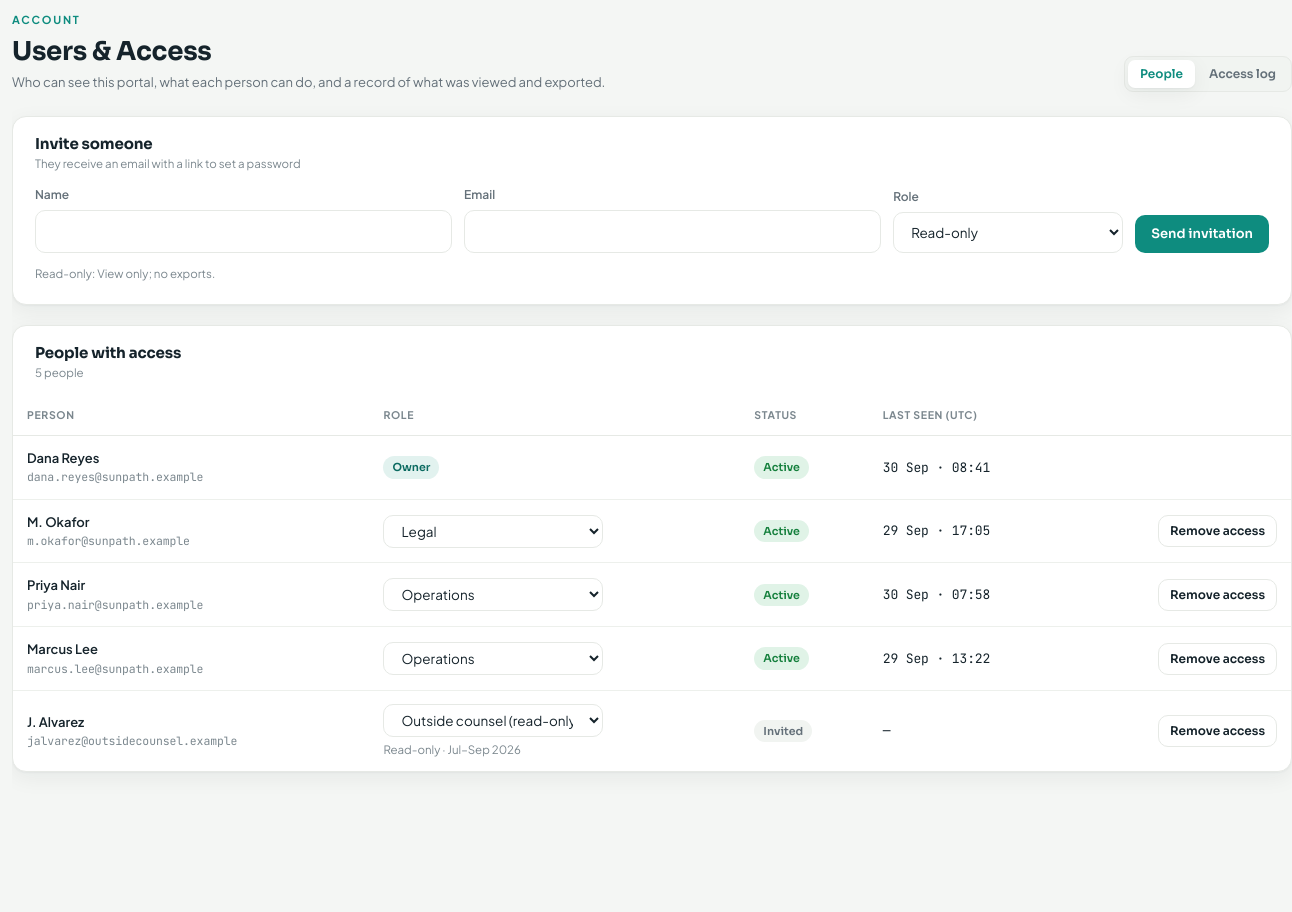
Test: interactions › invites a user and removes access
This screenshot has width=1292, height=912.
Step 1. Type "New Person" into the field labelled "Name" → (244, 232), box x1=35 y1=210 x2=452 y2=253
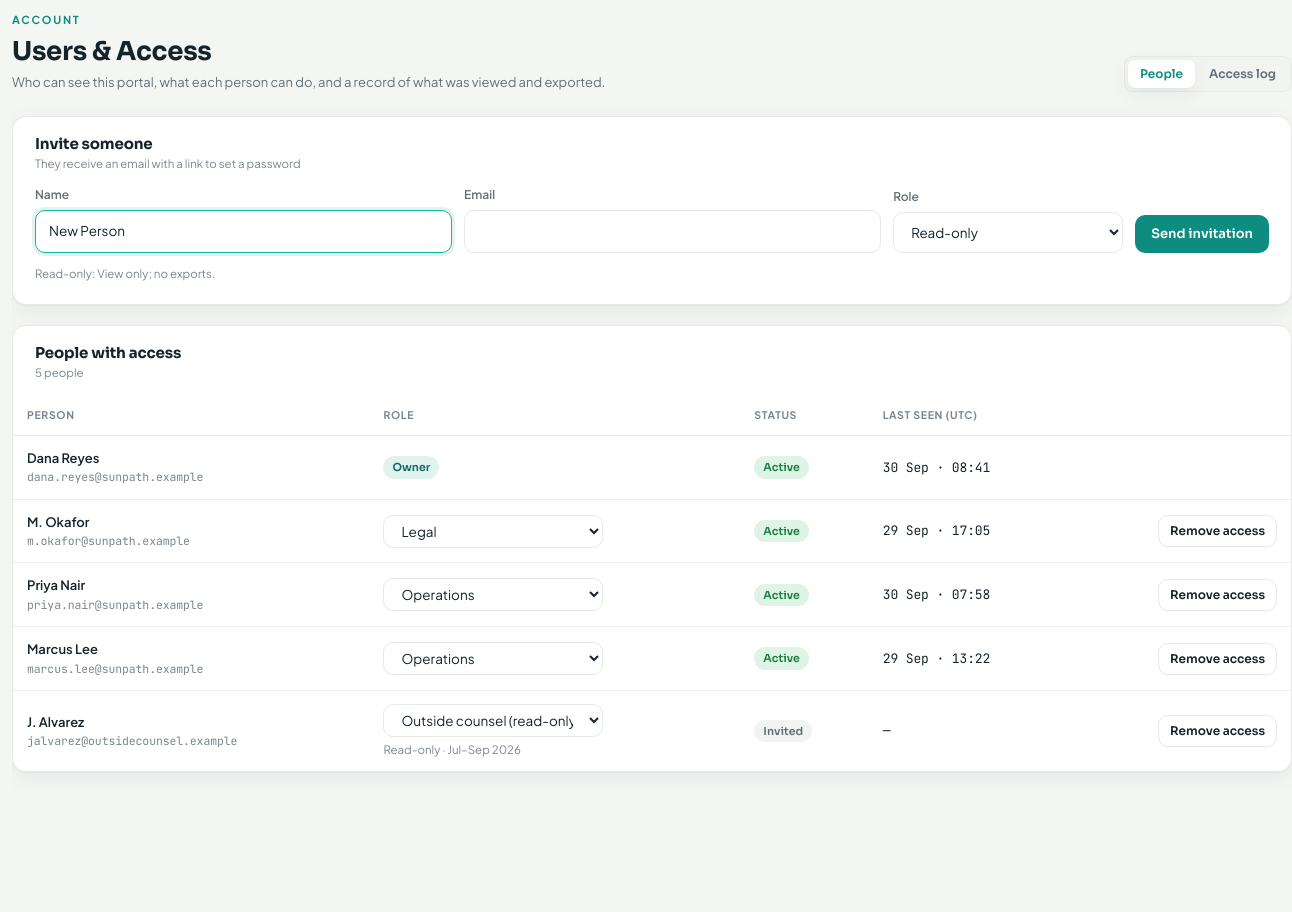
Step 2. Type "new.person@sunpath.example" into the field labelled "Email" → (673, 232), box x1=464 y1=210 x2=881 y2=253
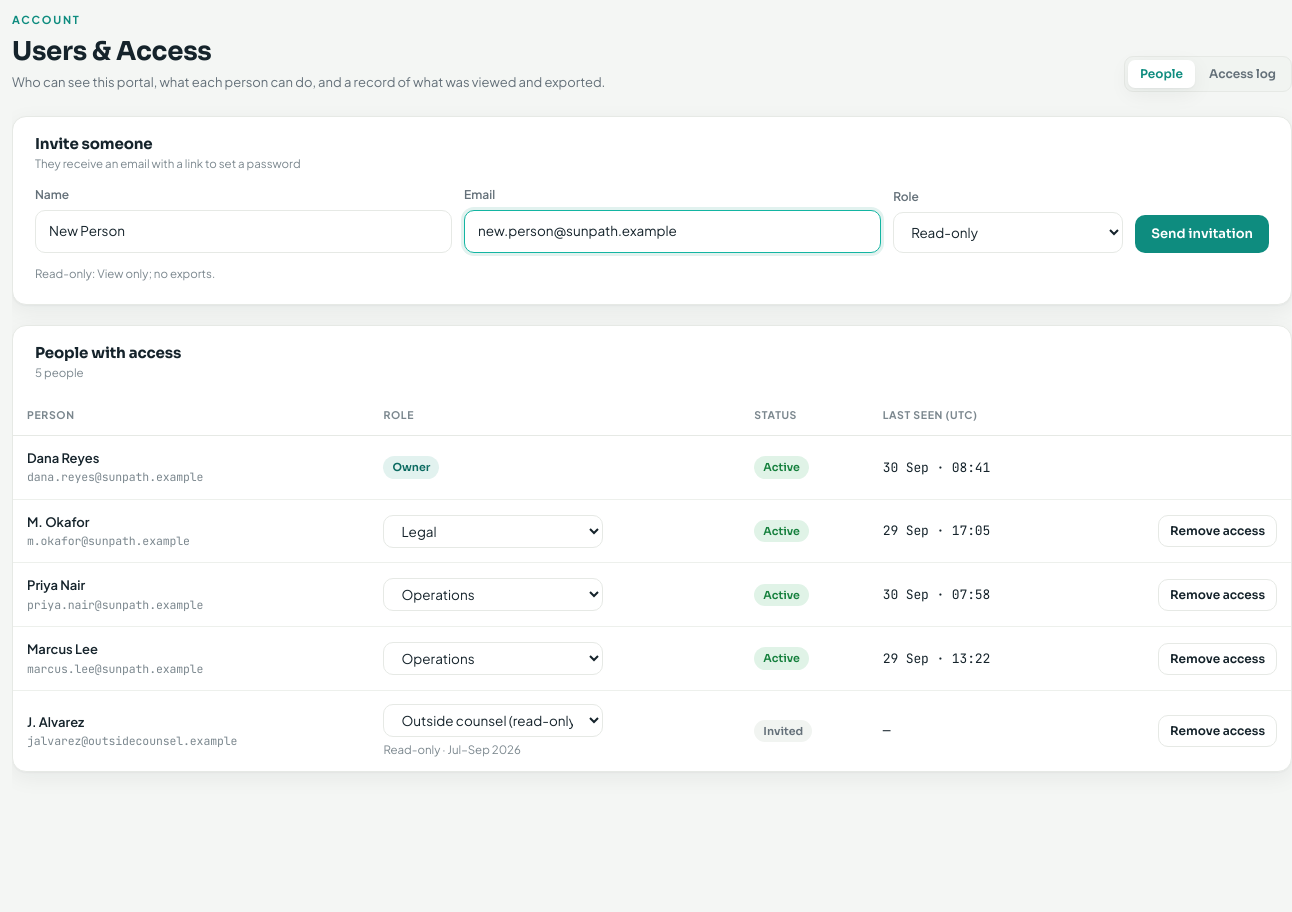
Step 3. Click the button "Send invitation" → click(1202, 234), box x1=1135 y1=215 x2=1269 y2=253
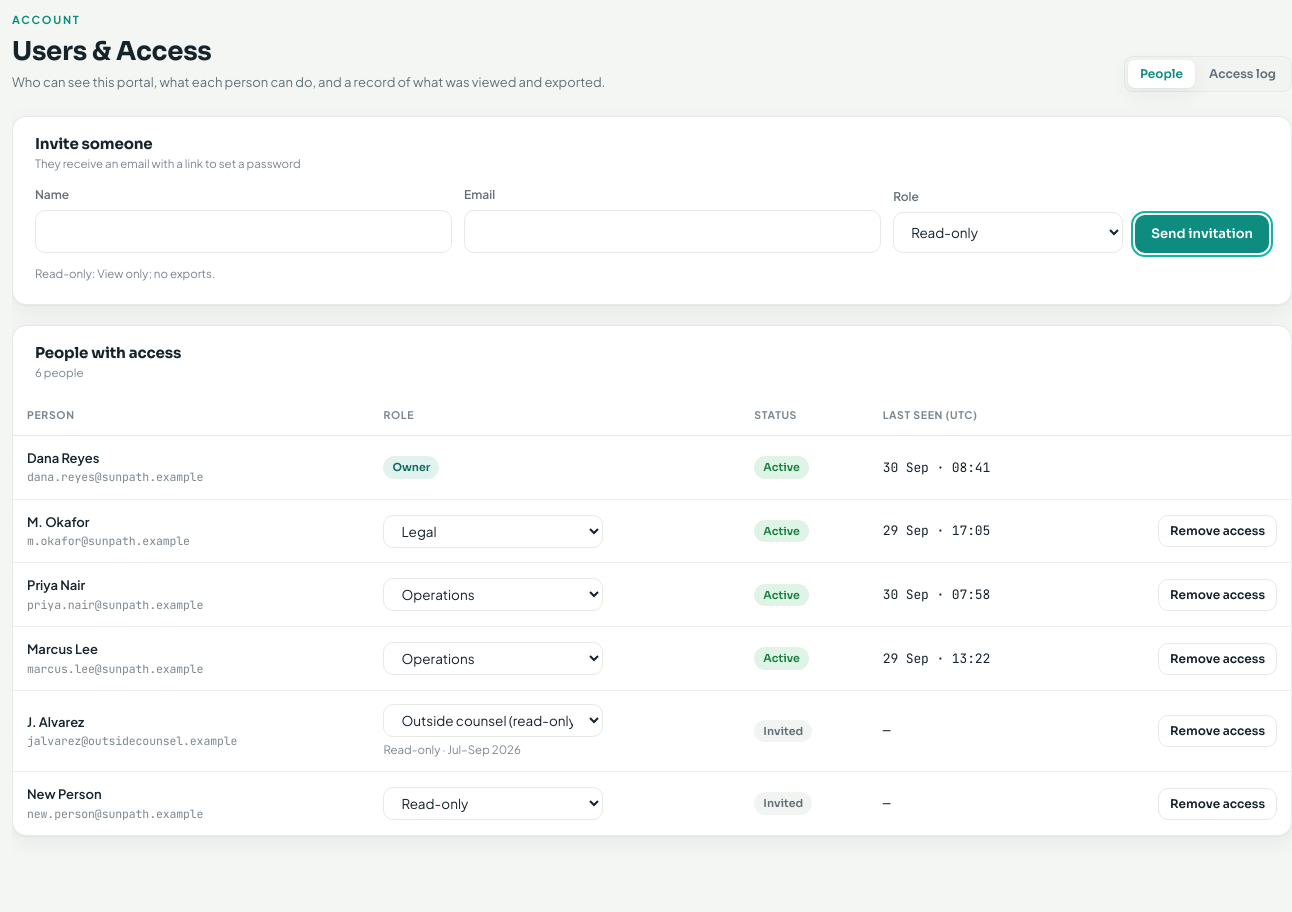
Expected: the text "new.person@sunpath.example" is shown, x1=27 y1=806 x2=203 y2=821
Step 4. Click the button with aria-label "Remove access for New Person" → click(1218, 804), box x1=1158 y1=788 x2=1277 y2=820
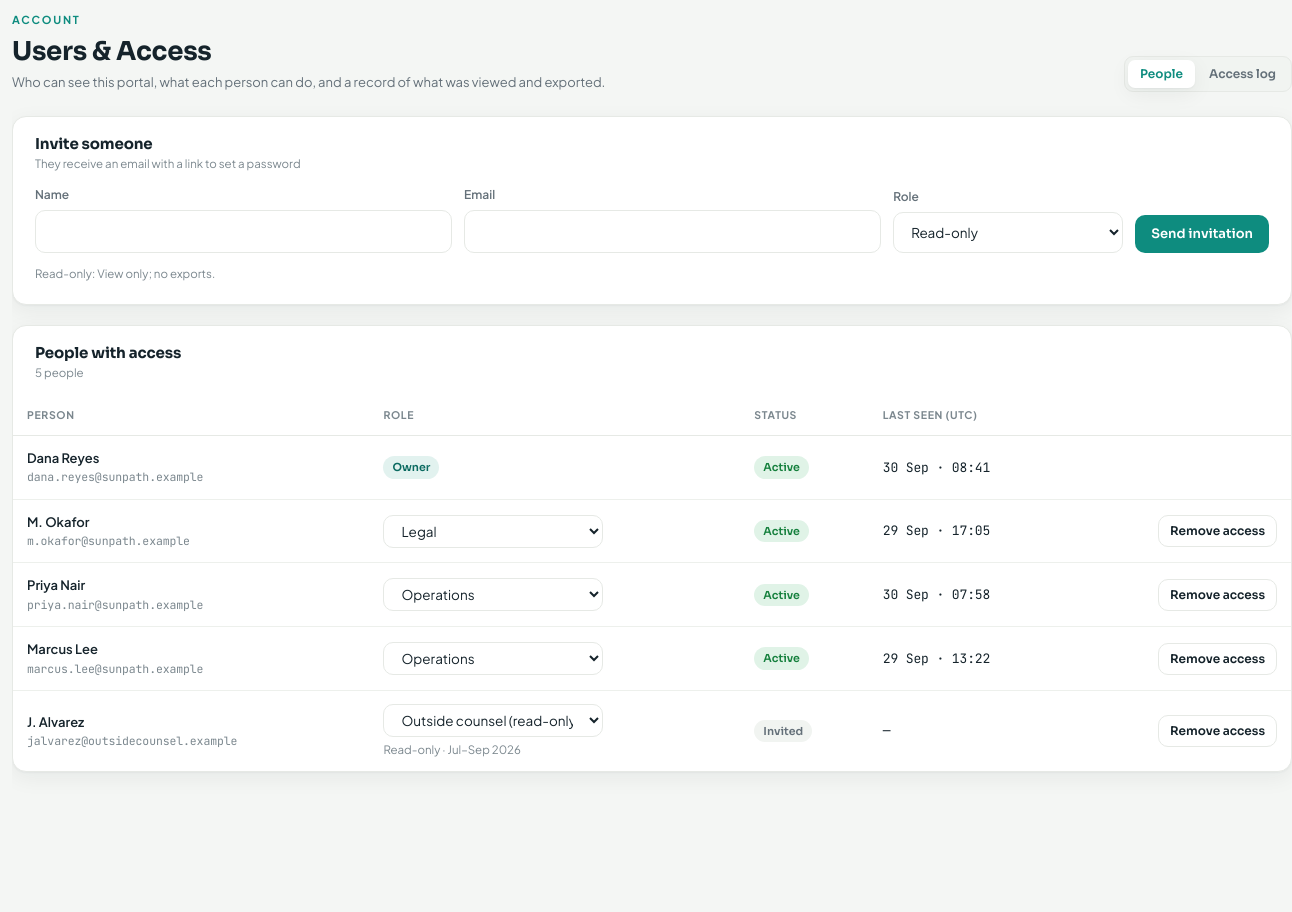
Expected: the text "new.person@sunpath.example" is gone
